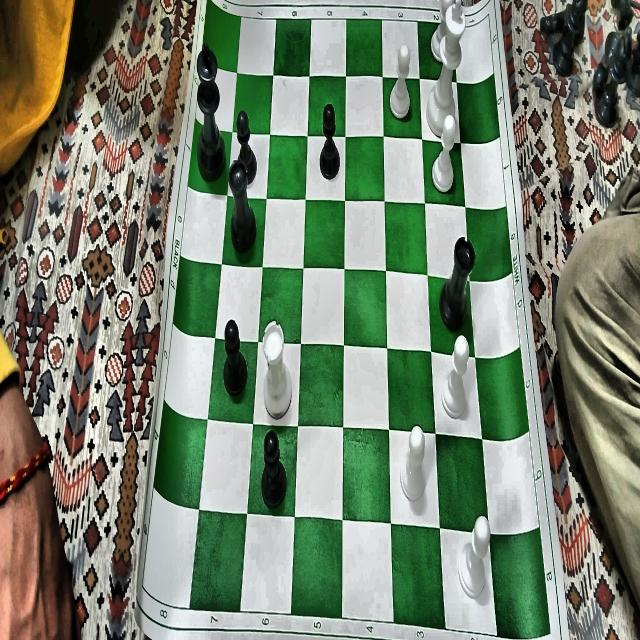BlackKing: (196, 41, 227, 184)
BlackPawn: (261, 430, 286, 509), (223, 320, 248, 397), (236, 110, 258, 185), (319, 104, 340, 179)
BlackRook: (438, 237, 476, 329), (228, 159, 256, 252)
WhiteKing: (426, 0, 466, 130)
WhitePawn: (459, 515, 492, 599), (441, 334, 469, 420), (400, 426, 427, 502), (432, 115, 456, 193), (390, 45, 410, 119), (431, 1, 451, 62)
WhiteRook: (263, 321, 292, 419)
